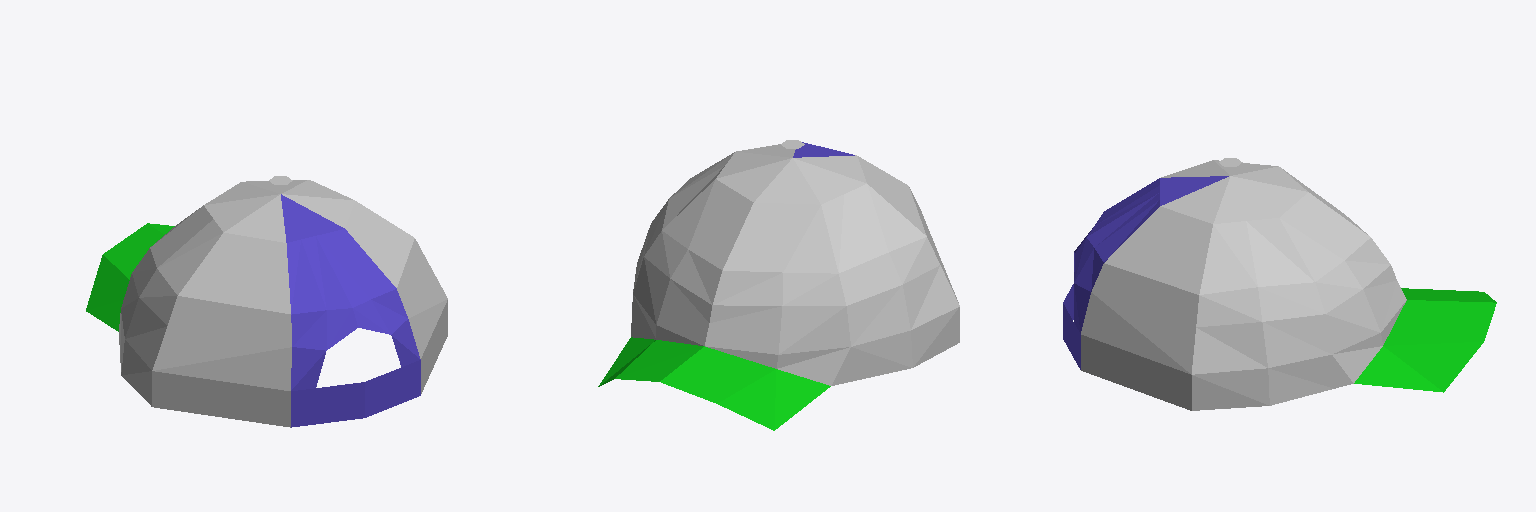
Rendered from colored_cap_hat.obj.
The picture shows the model from 3 angles: view 1: azimuth 30°, elevation 25°; view 2: azimuth 150°, elevation 25°; view 3: azimuth 270°, elevation 25°; orthographic projection.
Visible parts, largest first — view 1: cap_Sphere; view 2: cap_Sphere; view 3: cap_Sphere.
Boxes of the visible parts, box(x1,y1,x2,y2) form: cap_Sphere: box(86, 176, 447, 427); cap_Sphere: box(598, 140, 959, 430); cap_Sphere: box(1063, 158, 1496, 410).
Size of the model in its own units: 0.6669 by 0.4024 by 0.8474.